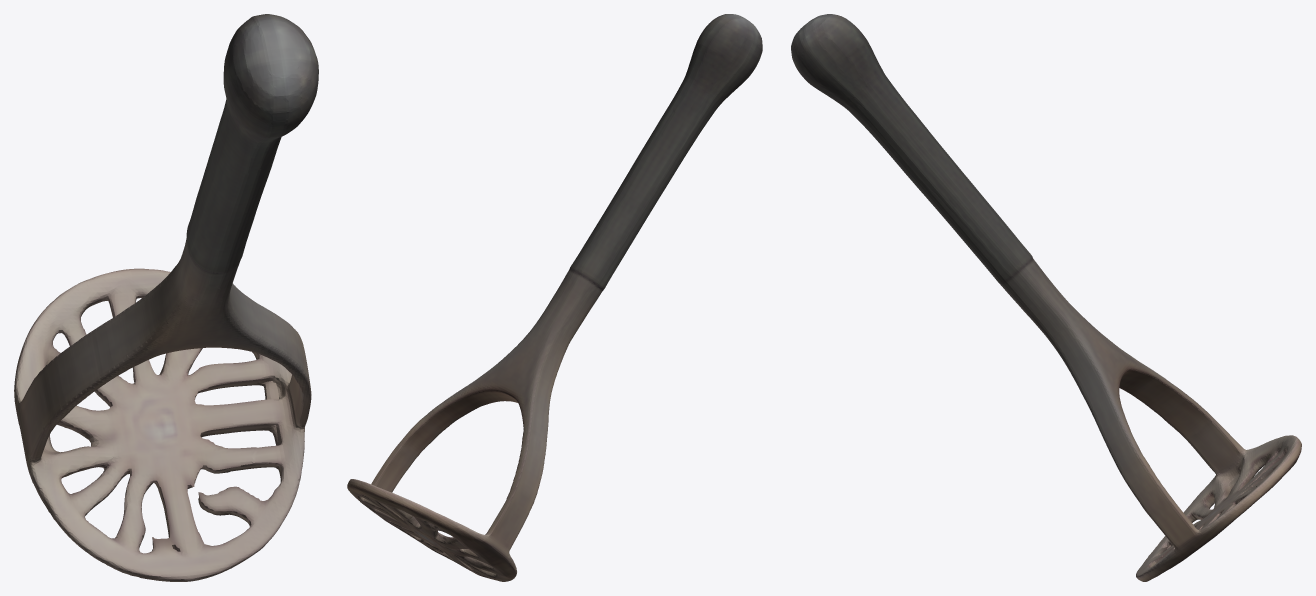
File: frame_0070_source_000070_object.glb
3 views of the same model, side by side, from view 1: azimuth 30°, elevation 25°; view 2: azimuth 150°, elevation 25°; view 3: azimuth 270°, elevation 25° (orthographic). The views are drawn at different scales.
Visible parts, largest first — view 1: world; view 2: world; view 3: world.
Boxes of the visible parts, x1=… form: world: x1=14, y1=14, x2=318, y2=581; world: x1=347, y1=14, x2=762, y2=581; world: x1=791, y1=14, x2=1301, y2=581.
Bounding box in the file's own units: 0.1026 × 0.2161 × 0.1991.
